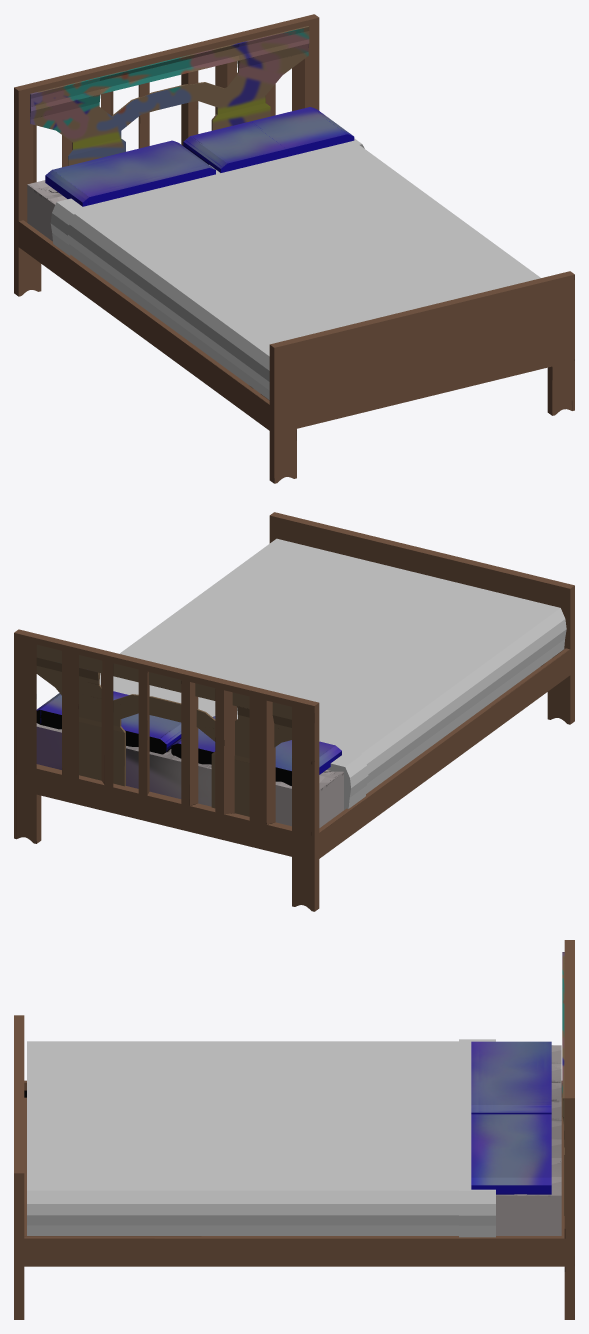
Rendered from Bed.fbx.
The picture shows the model from 3 angles, top to bottom: view 1: azimuth 30°, elevation 25°; view 2: azimuth 150°, elevation 25°; view 3: azimuth 270°, elevation 25°; orthographic projection. The views are drawn at different scales.
Parts seen in each view (by area): view 1: Blanket, Bed Frame, Frame Decor Headboard, Pillow, Matress; view 2: Blanket, Bed Frame, Frame Decor Headboard, Matress, Pillow; view 3: Blanket, Bed Frame, Pillow, Matress, Frame Decor Headboard.
Part boxes in pixels (x1,y1,x2,y2): Blanket: [50, 138, 540, 399]; Bed Frame: [14, 14, 574, 483]; Frame Decor Headboard: [30, 26, 309, 165]; Pillow: [45, 107, 354, 206]; Matress: [27, 180, 67, 241]; Blanket: [99, 538, 566, 809]; Bed Frame: [14, 512, 574, 911]; Frame Decor Headboard: [36, 644, 291, 816]; Matress: [36, 723, 343, 827]; Pillow: [36, 691, 341, 785]; Blanket: [27, 1039, 495, 1237]; Bed Frame: [14, 940, 574, 1319]; Pillow: [471, 1041, 551, 1194]; Matress: [496, 1045, 561, 1235]; Frame Decor Headboard: [562, 952, 564, 1215].
Size of the model in its own units: 400 by 262 by 600.
